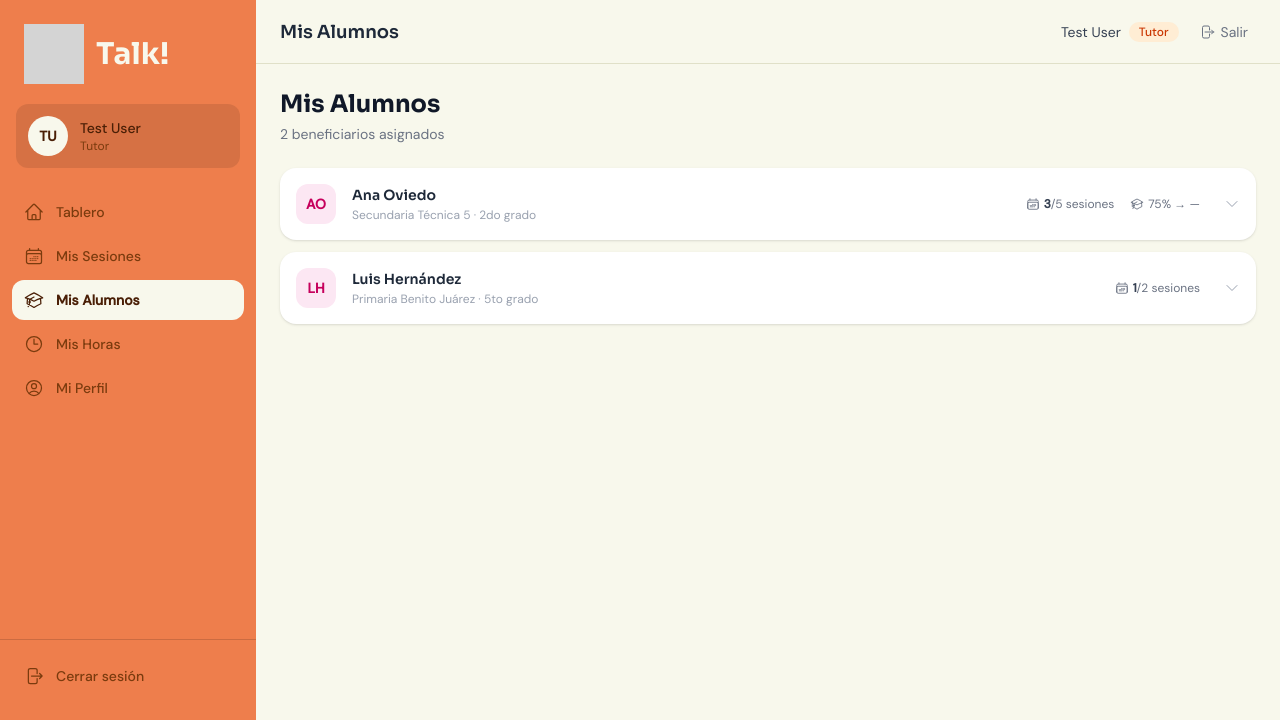
Test: Mis Alumnos (tutor) › al hacer click en "Registrar" abre el modal de calificaciones
Click the button "Luis Hernández". click: (316, 288)
box: [280,252,1256,324]
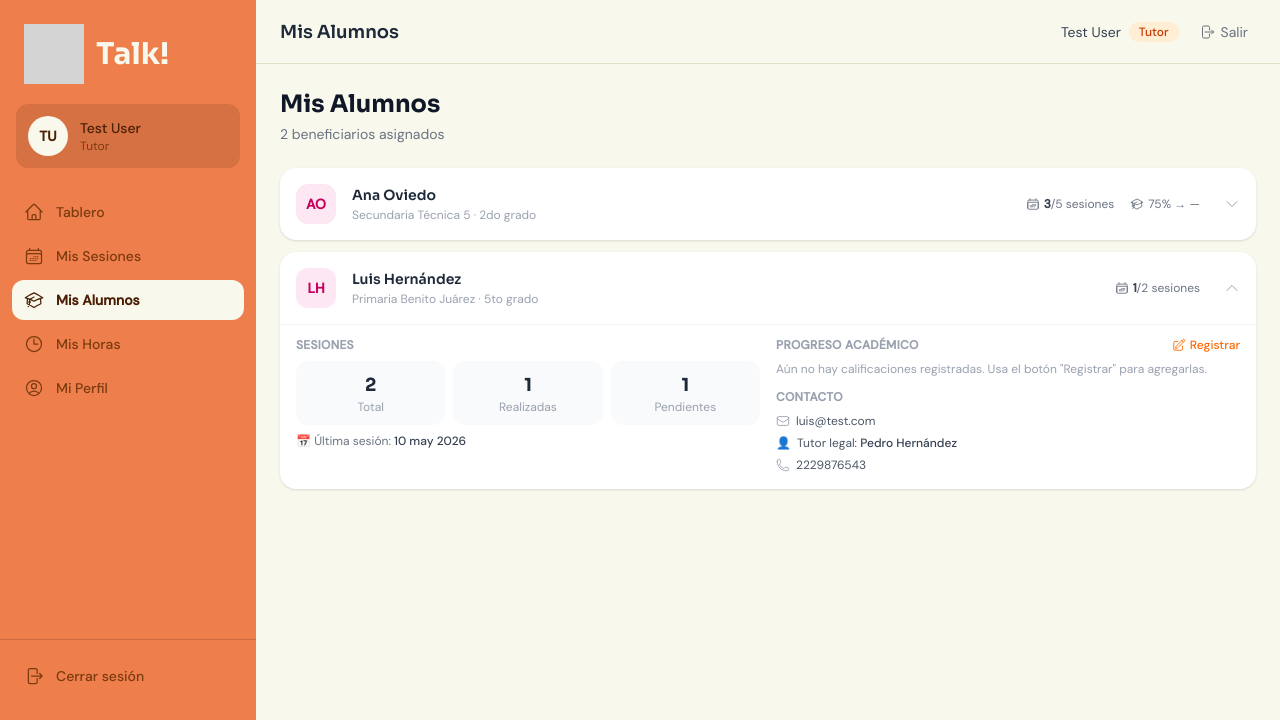
Click the button "Registrar". click: (1206, 345)
box: [1172,337,1240,353]
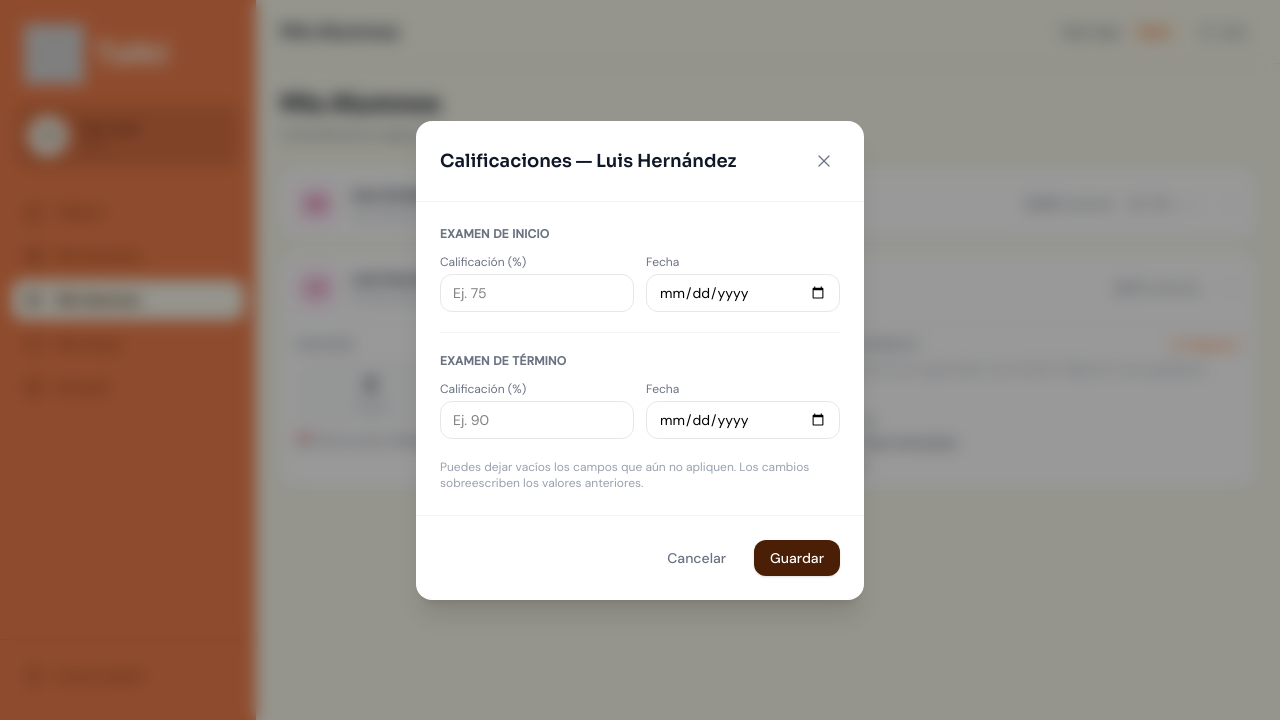
Check: the heading "Calificaciones — Luis Hernández" is shown, box [440,146,736,174]
Check: the text "Examen de inicio" is shown, box [440,226,550,242]
Check: the text "Examen de término" is shown, box [440,352,566,368]
